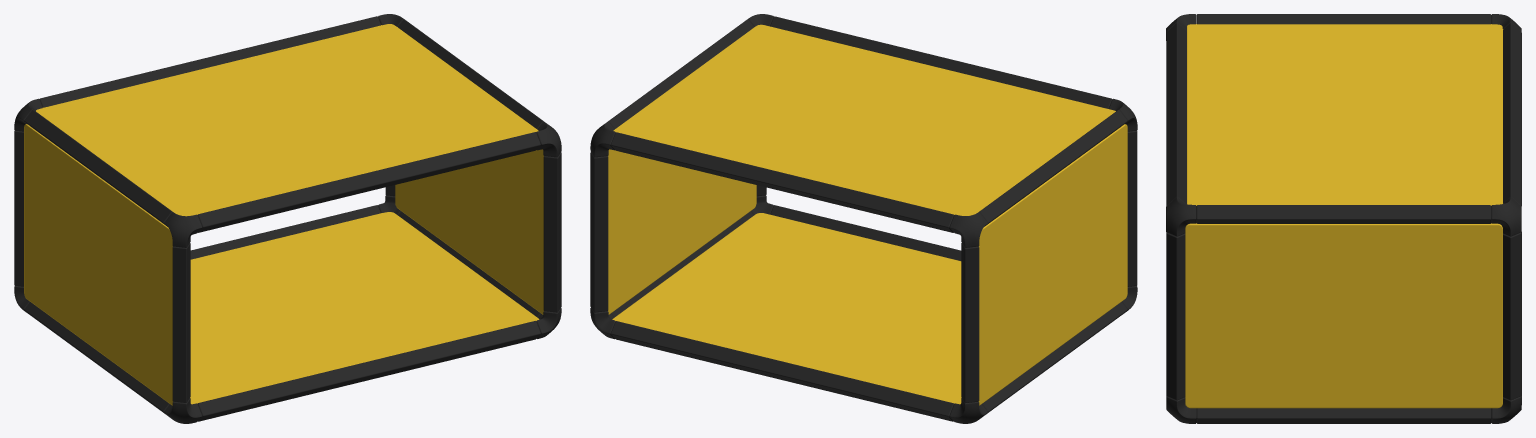
The picture shows the model from 3 angles, left to right: view 1: azimuth 30°, elevation 25°; view 2: azimuth 150°, elevation 25°; view 3: azimuth 270°, elevation 25°; orthographic projection. The views are drawn at different scales.
Visible parts, largest first — view 1: 523x374x229; view 2: 523x374x229; view 3: 523x374x229.
Part boxes in pixels (box(x1,y1,x2,y2)): 523x374x229: box(14, 14, 561, 423); 523x374x229: box(590, 14, 1137, 423); 523x374x229: box(1166, 14, 1521, 423).
Size of the model in its own units: 0.6007 by 0.3066 by 0.4513.
